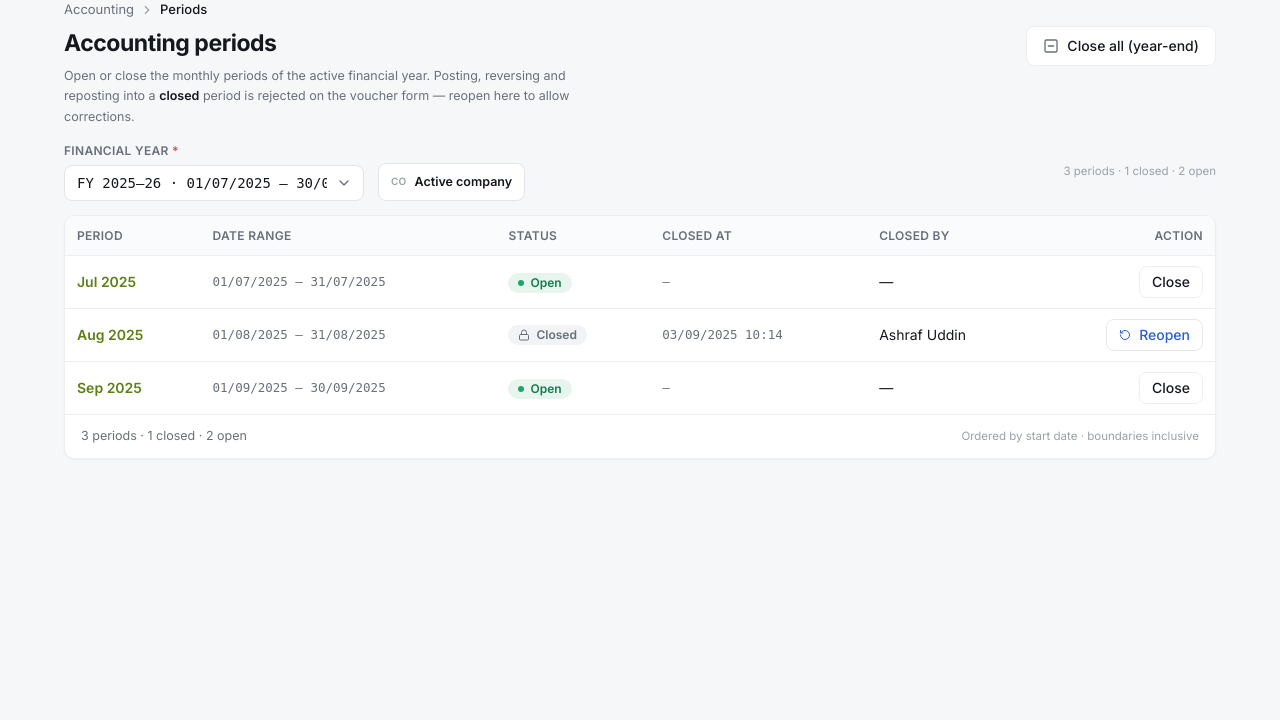
PeriodManagerScreen — reopen action + PERIOD_FY_LOCKED › PERIOD_FY_LOCKED keeps the dialog open with the exact year-locked message, distinct from FORBIDDEN
Expected: the table with test id "period-table" is shown, [65,216,1215,414]
Click the button with test id "reopen-p2": (1155, 335) [1106,319,1203,351]
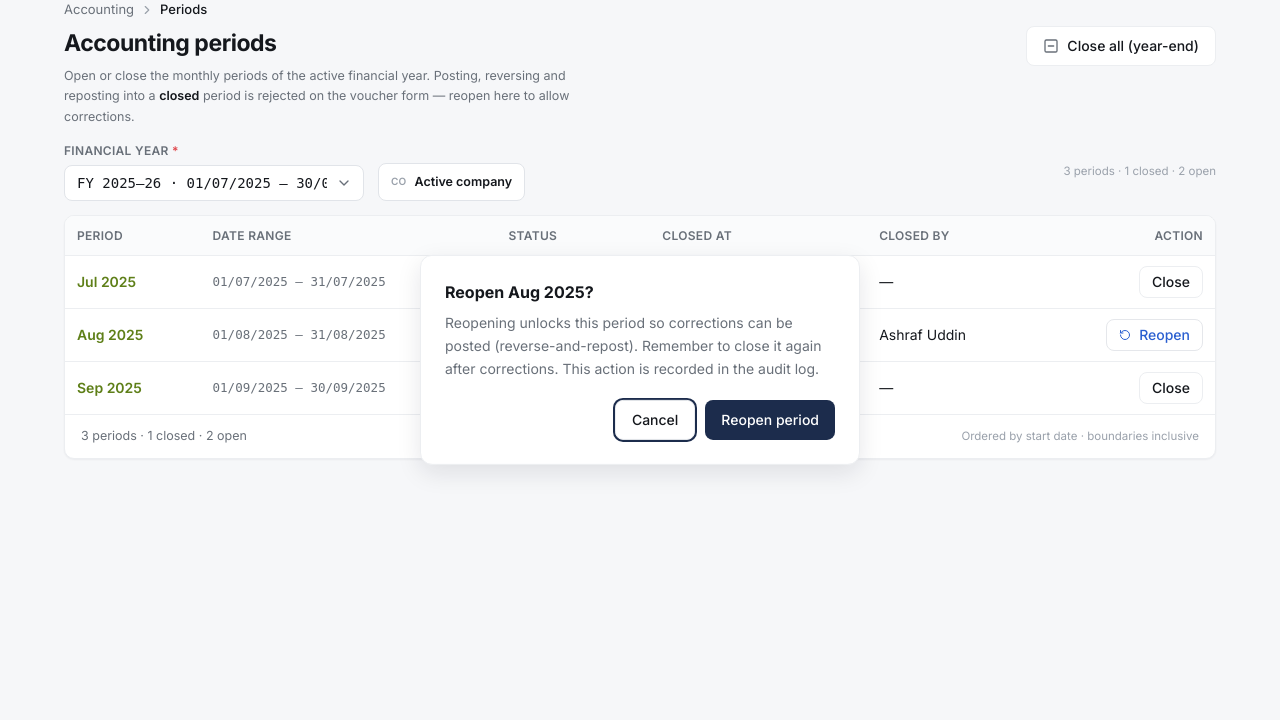
Expected: the dialog with test id "reopen-dialog" is shown, [420,255,860,465]
Click the button with test id "reopen-dialog-confirm": (770, 420) [705,400,835,440]
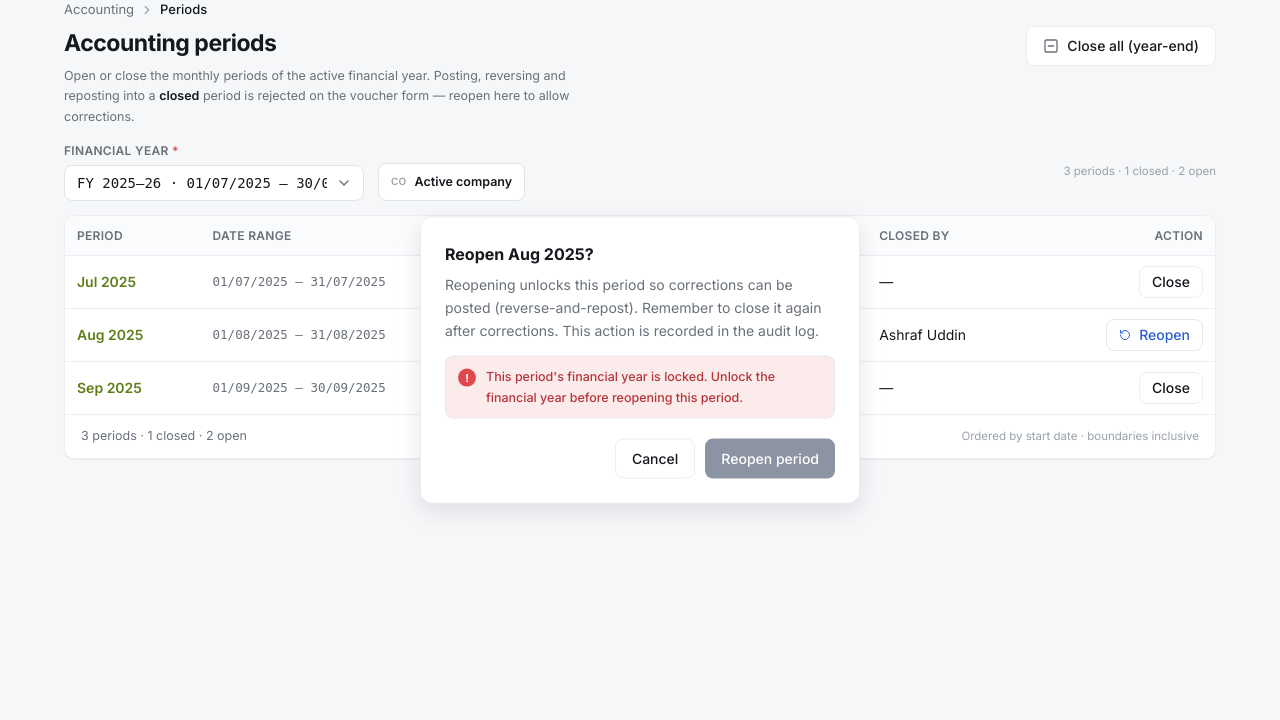
Expected: the dialog with test id "reopen-dialog" is shown, [420,217,860,504]
Expected: the text "This period's financial year is locked. Unlock the financial year before reopening this period." is shown, [486,369,775,404]
Expected: the button with test id "reopen-dialog-confirm" is disabled, [705,438,835,478]
